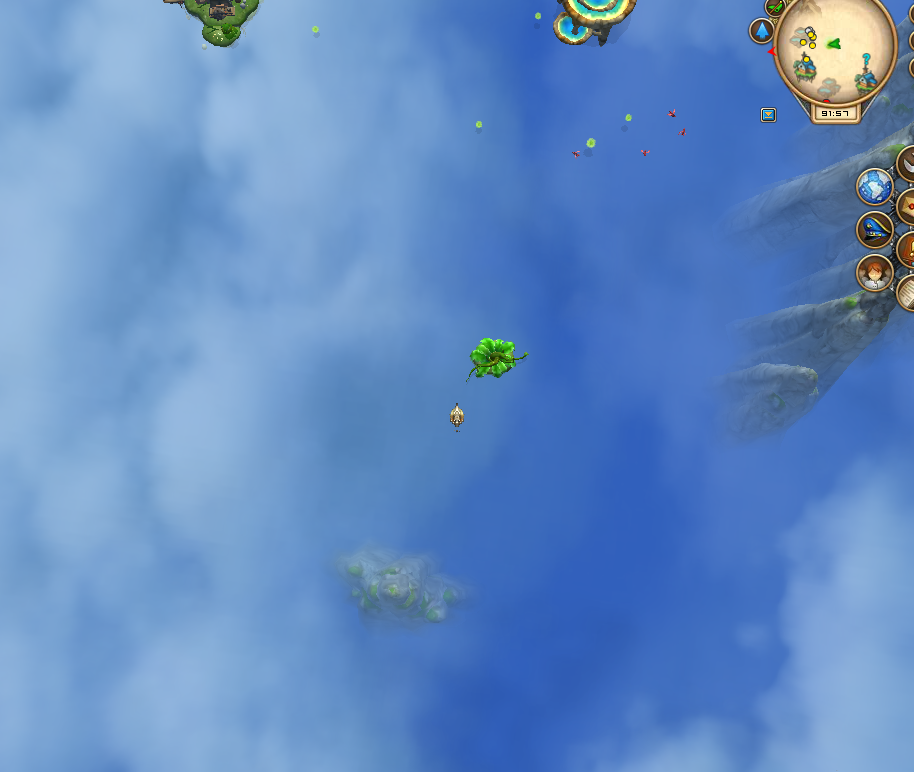dandelion-empty: (468, 332, 526, 386)
fluff: (580, 131, 600, 152), (469, 116, 490, 132), (305, 23, 324, 35), (531, 8, 546, 22), (622, 110, 635, 124)
